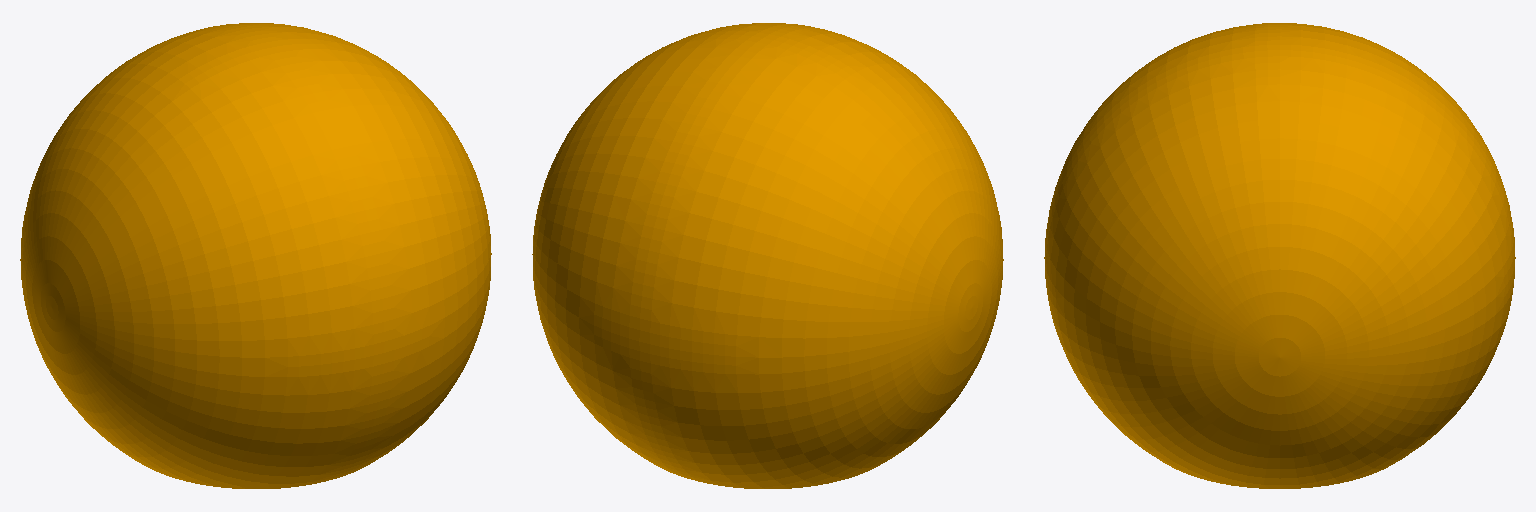
The robot description file, URDF, robot "object":
<?xml version="1.0"?>
<robot name="object">
  <link name="object">
    <visual>
      <origin xyz="0.0 0.0 0.0"/>
      <geometry>
        <mesh filename="sphere_medium.stl" scale="1.00 1.00 1.00"/>
      </geometry>
    </visual>
    <collision>
      <origin xyz="0.0 0.0 0.0"/>
      <geometry>
        <mesh filename="sphere_medium.stl" scale="1.00 1.00 1.00"/>
      </geometry>
    </collision>
  </link>
</robot>
    
                    

--- What the picture shows (computed from the rendered views, not written in the file) ---
Views: 3 orthographic renders of the robot side by side, from view 1: azimuth 30°, elevation 25°; view 2: azimuth 150°, elevation 25°; view 3: azimuth 270°, elevation 25°.
Model object with 1 links and 0 joints (none), rooted at object, posed every joint at zero.
Links seen in each view (by area): view 1: object; view 2: object; view 3: object.
Link boxes in pixels (bbox=[...]): object: bbox=[20, 23, 491, 488]; object: bbox=[532, 23, 1003, 488]; object: bbox=[1044, 23, 1515, 488].
Size in the robot's own frame: 0.0802 by 0.0802 by 0.0725 metres.
1 mesh visuals loaded from 1 distinct referenced files (1 binary STL).
